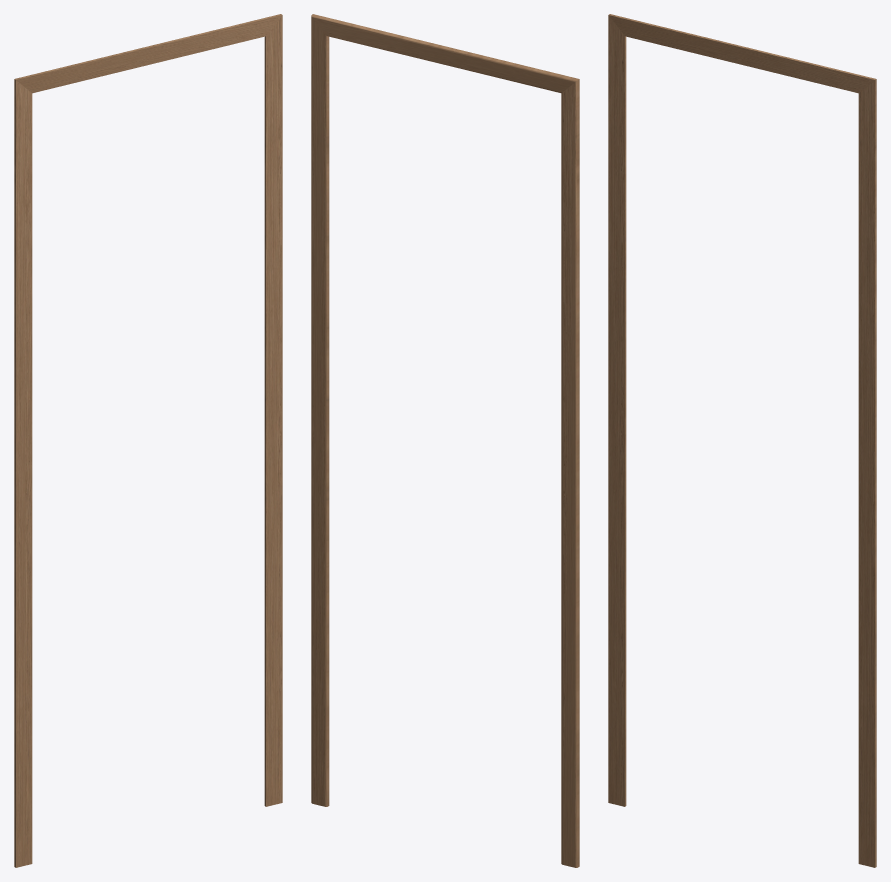
Rendered from 3ab_architrave_back.glb.
3 views of the same model, side by side, from view 1: azimuth 30°, elevation 25°; view 2: azimuth 150°, elevation 25°; view 3: azimuth 330°, elevation 25° (orthographic).
Visible parts, largest first — view 1: _3a_b_architrave_back; view 2: _3a_b_architrave_back; view 3: _3a_b_architrave_back.
Part boxes in pixels (left/top/right/bottom): _3a_b_architrave_back: left=14, top=14, right=282, bottom=867; _3a_b_architrave_back: left=311, top=14, right=579, bottom=867; _3a_b_architrave_back: left=608, top=14, right=876, bottom=867.
Size of the model in its own units: 0.6451 by 1.82 by 0.01.
1 material, 1 textured.
